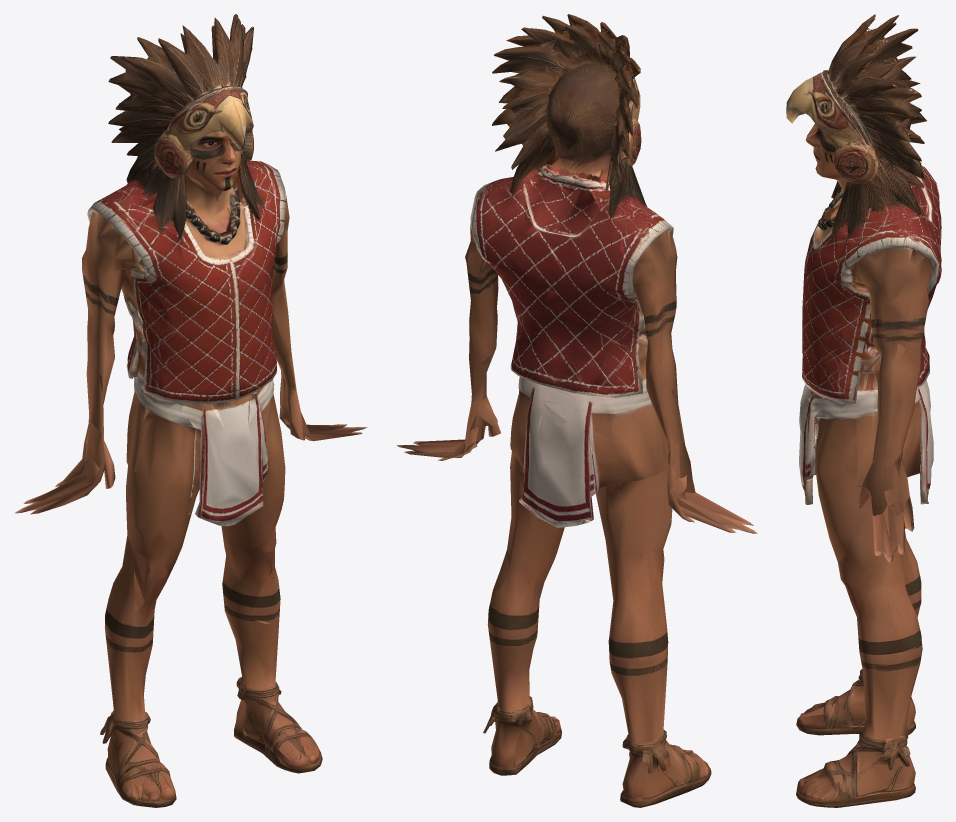
File: human-w-p.glb
The picture shows the model from 3 angles, left to right: view 1: azimuth 30°, elevation 25°; view 2: azimuth 150°, elevation 25°; view 3: azimuth 270°, elevation 25°; orthographic projection. The views are drawn at different scales.
Visible parts, largest first — view 1: Mesh_0; view 2: Mesh_0; view 3: Mesh_0.
Part boxes in pixels (<box>): Mesh_0: <box>14,14,367,807</box>; Mesh_0: <box>397,14,757,807</box>; Mesh_0: <box>786,14,941,807</box>.
Size of the model in its own units: 0.8739 by 1.75 by 0.3354.
1 material, 1 textured.
